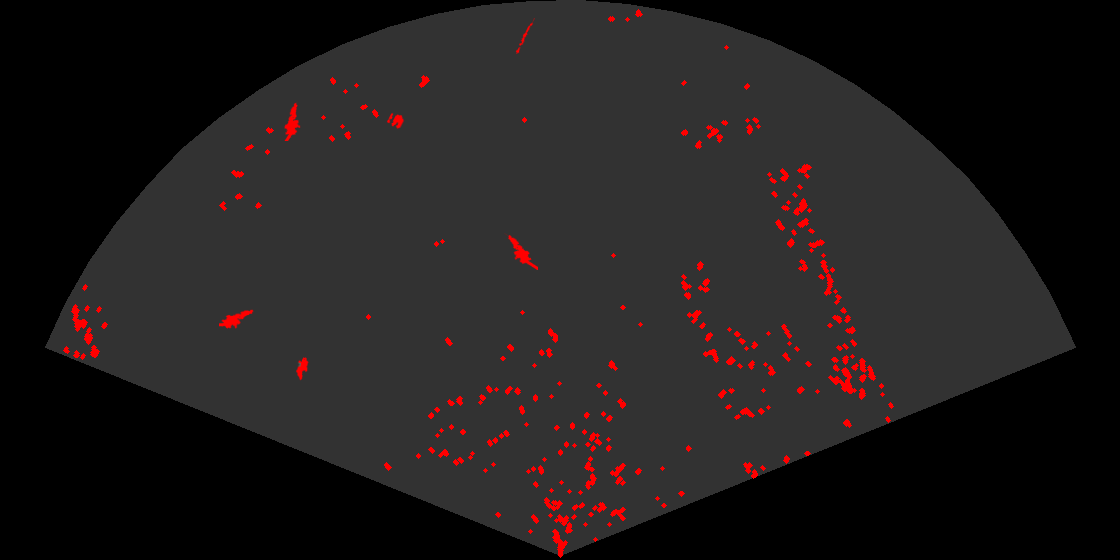AUV: (295, 356, 310, 381)
ball: (385, 111, 406, 130)
chain: (514, 18, 535, 54)
frogman: (503, 233, 538, 270), (283, 100, 302, 141), (219, 308, 254, 330)
